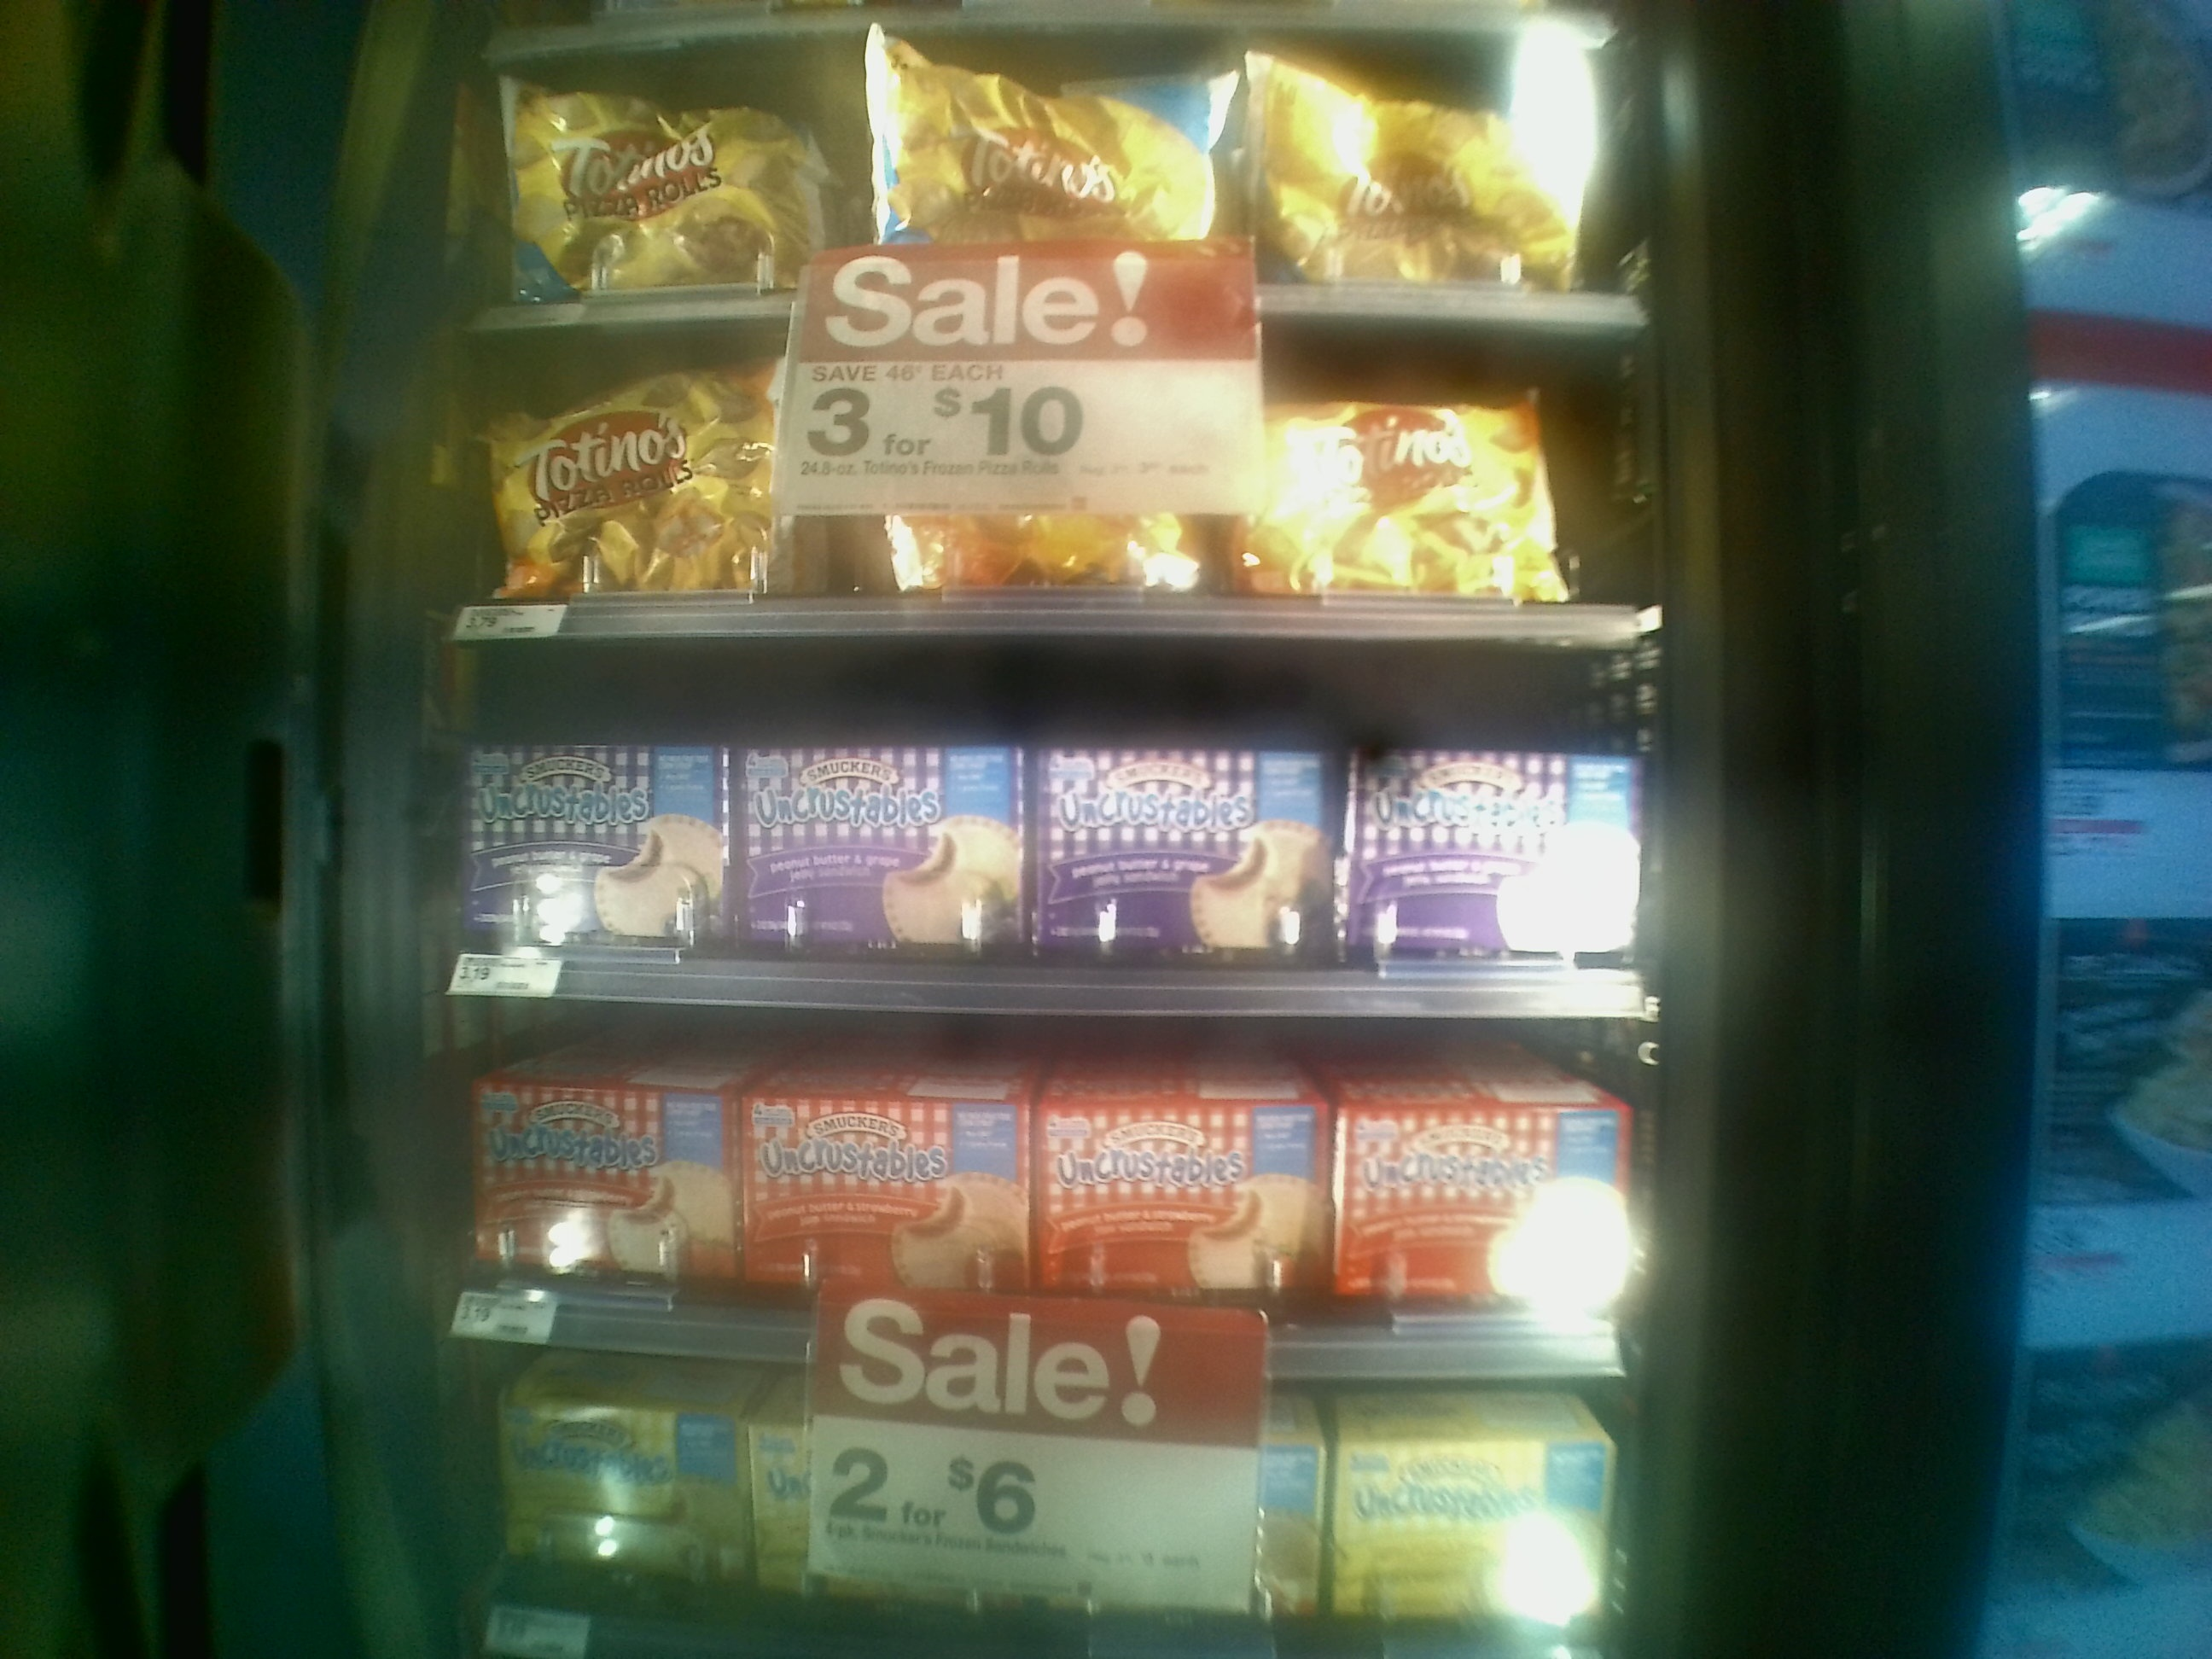shelf: (423, 645, 1656, 1032), (446, 1030, 1635, 1389), (439, 324, 1656, 655), (427, 26, 1656, 329)
